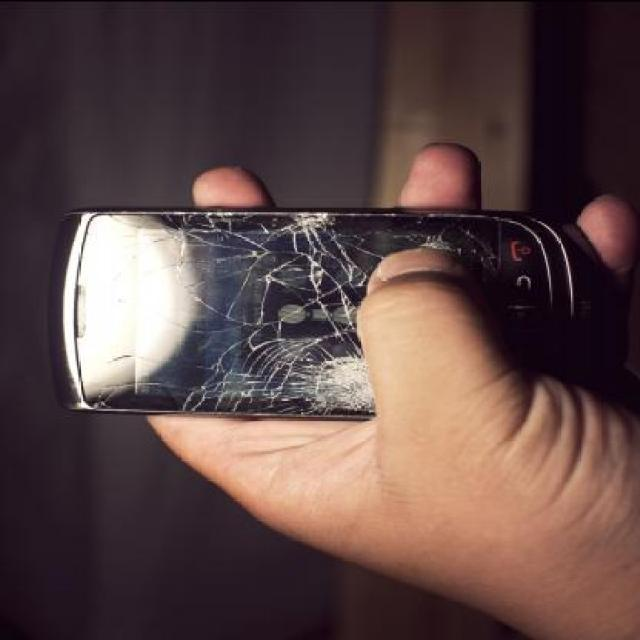phone: (44, 188, 495, 432)
